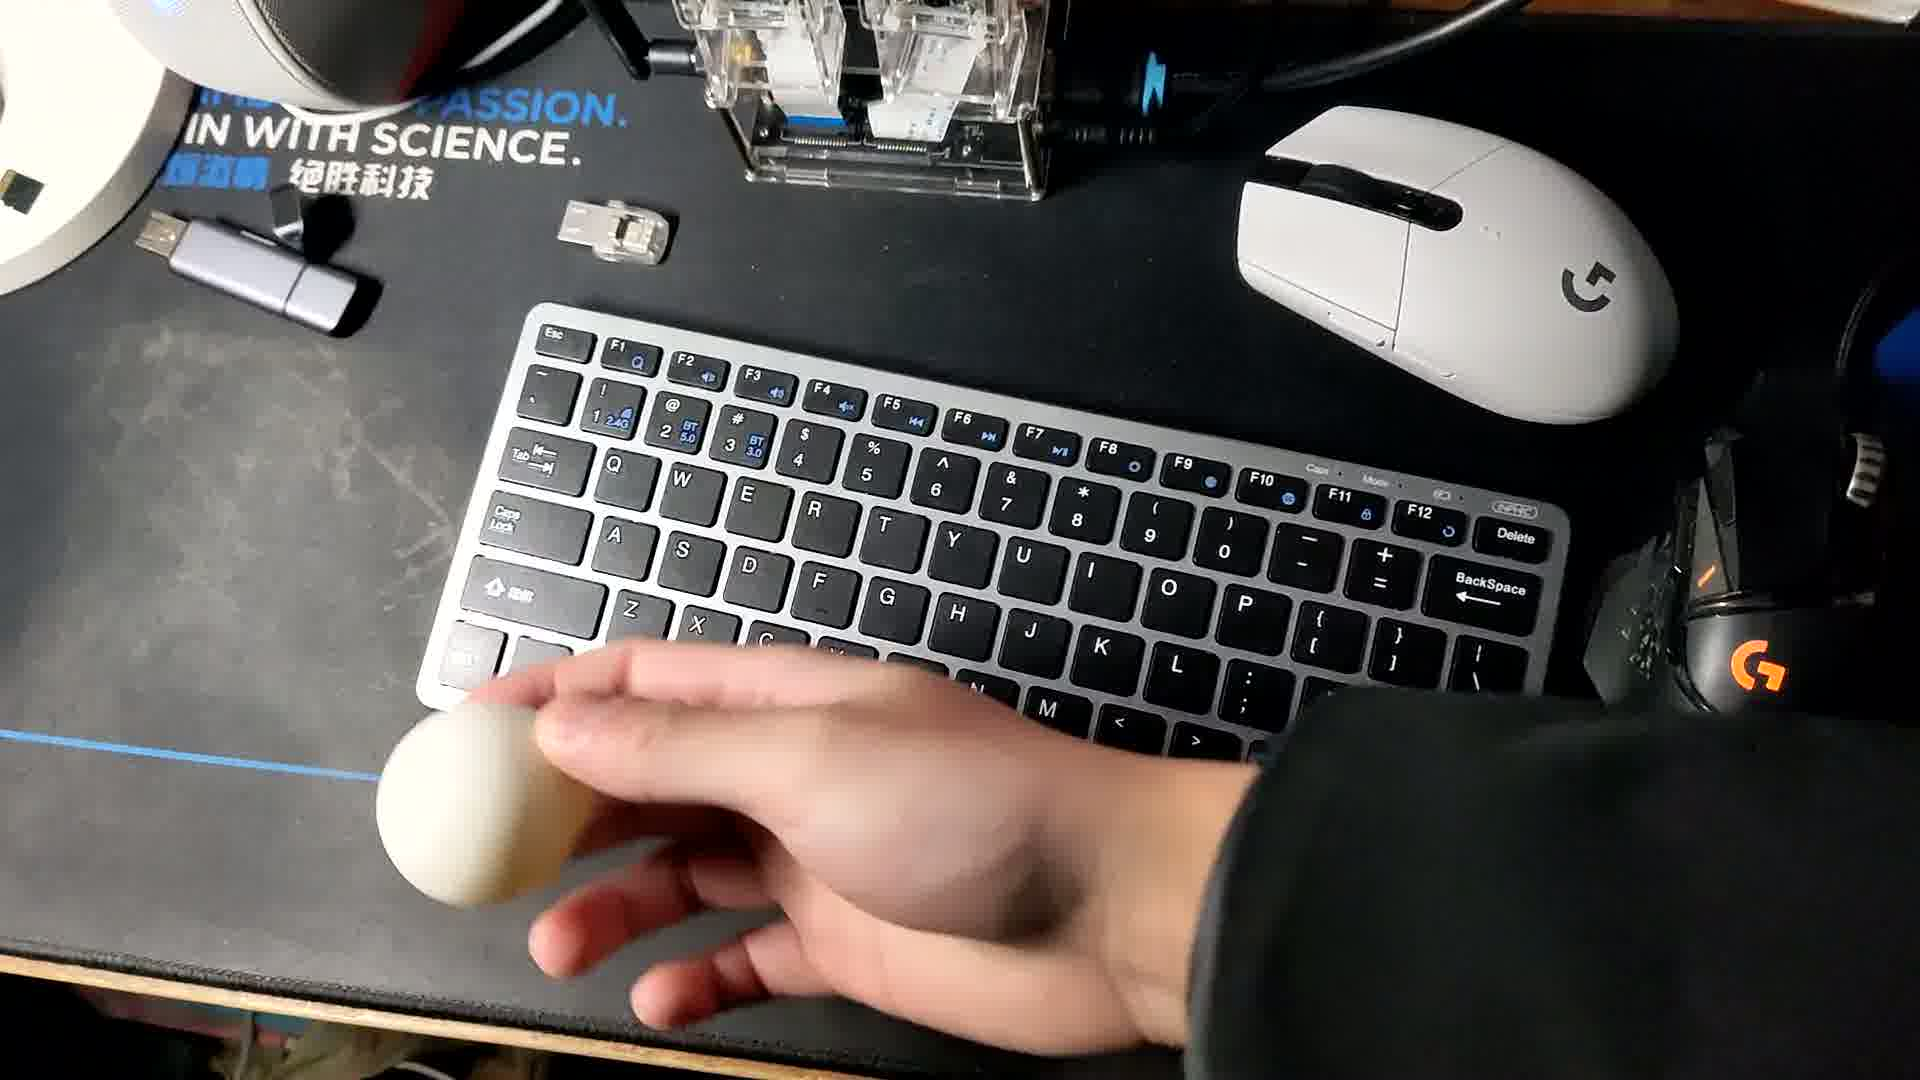Ball: (376, 705, 597, 899)
